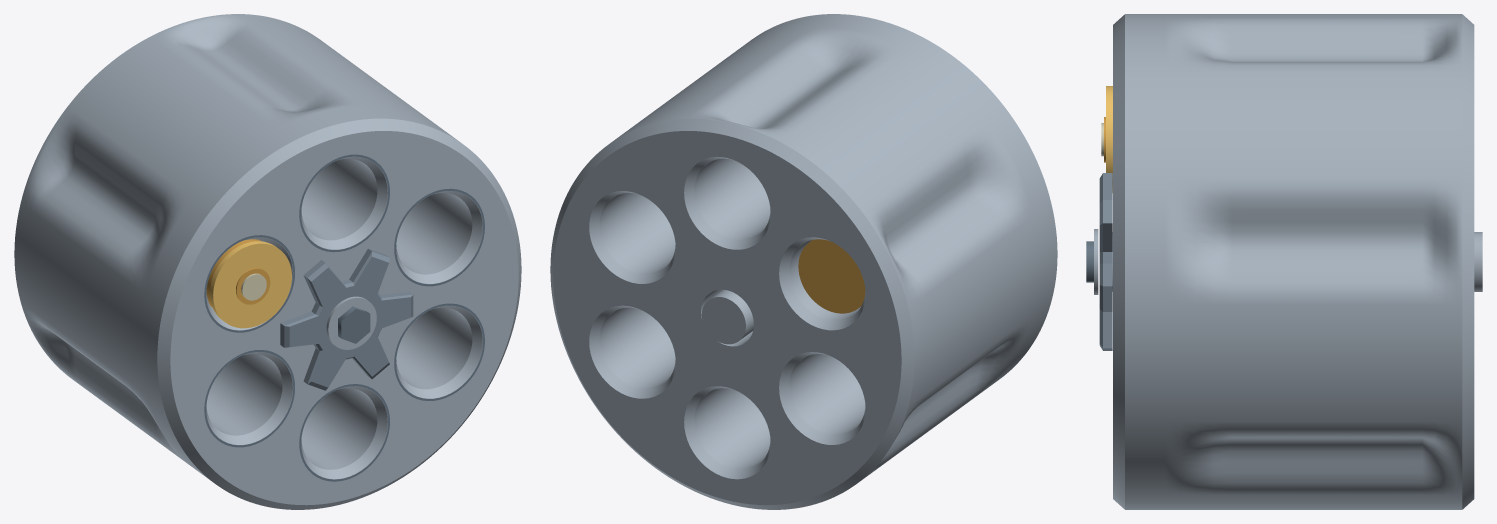
3 renders of one model, left to right at view 1: azimuth 30°, elevation 25°; view 2: azimuth 150°, elevation 25°; view 3: azimuth 270°, elevation 25°, orthographic. The views are drawn at different scales.
Visible parts, largest first — view 1: SixBoreSteelDrum, SixArmExtractor, CaseRim, ChamberEntranceRecesses, ExtractorWasher, HexagonalHub; view 2: SixBoreSteelDrum, BrassCase, EjectorHub; view 3: SixBoreSteelDrum, SixArmExtractor, CaseRim, EjectorHub.
Part boxes in pixels (<box>): SixBoreSteelDrum: <box>14,14,521,509</box>; SixArmExtractor: <box>280,248,413,390</box>; CaseRim: <box>210,241,291,328</box>; ChamberEntranceRecesses: <box>204,154,484,481</box>; ExtractorWasher: <box>326,296,376,349</box>; HexagonalHub: <box>338,306,370,343</box>; SixBoreSteelDrum: <box>550,14,1057,509</box>; BrassCase: <box>798,239,865,313</box>; EjectorHub: <box>701,289,753,344</box>; SixBoreSteelDrum: <box>1113,14,1474,509</box>; SixArmExtractor: <box>1099,173,1112,350</box>; CaseRim: <box>1106,86,1112,192</box>; EjectorHub: <box>1112,232,1482,291</box>.
Bounding box in the file's own units: 2.06 × 2.06 × 1.65.
